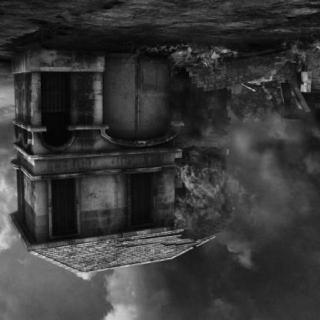Fire: (143, 43, 236, 79)
